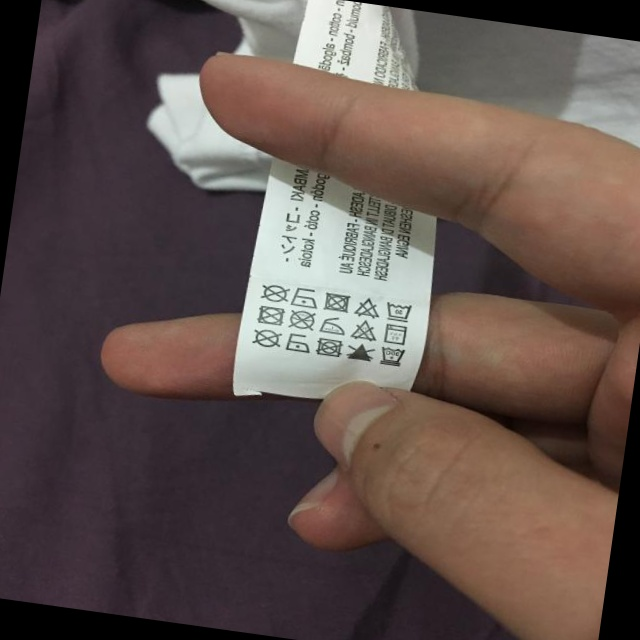30C: (382, 297, 416, 325), (380, 321, 407, 346), (377, 346, 407, 368)
DN_bleach: (350, 318, 379, 343), (346, 341, 375, 363), (354, 296, 380, 318)
DN_dry_clean: (286, 309, 318, 333), (252, 327, 283, 350), (259, 283, 289, 304)
DN_tumble_dry: (322, 289, 352, 315), (315, 335, 345, 359), (256, 304, 286, 327)
iron_low: (290, 286, 320, 311), (284, 332, 313, 356), (317, 314, 348, 336)
